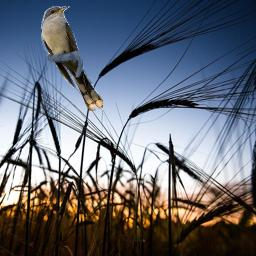Cuckoo: (41, 6, 103, 111)
